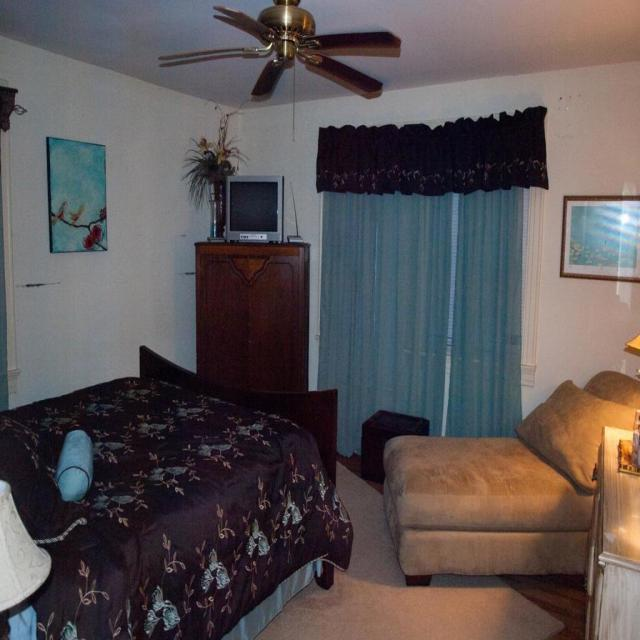fan_off: (163, 0, 400, 99)
